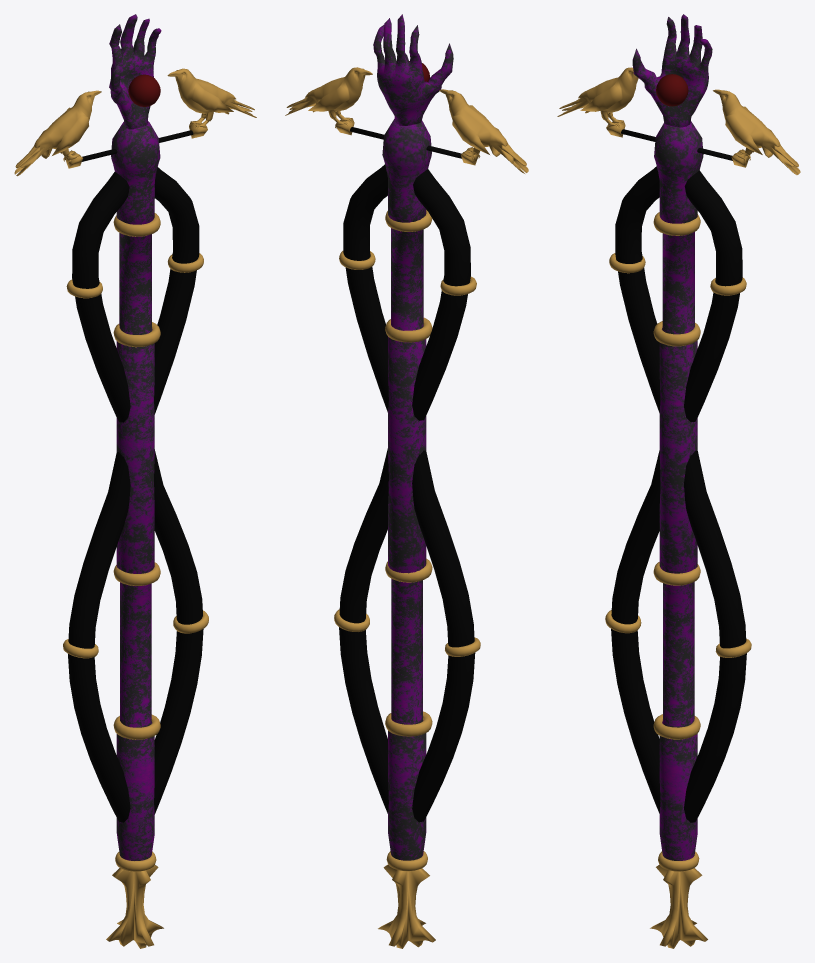
The model's file is DarkStaffUpgraded.fbx.
The picture shows the model from 3 angles, left to right: view 1: azimuth 30°, elevation 25°; view 2: azimuth 150°, elevation 25°; view 3: azimuth 330°, elevation 25°; orthographic projection.
Visible parts, largest first — view 1: DarkStaffUpgrade.001; view 2: DarkStaffUpgrade.001; view 3: DarkStaffUpgrade.001.
Boxes of the visible parts, bbox=[...] form: DarkStaffUpgrade.001: bbox=[14, 14, 256, 948]; DarkStaffUpgrade.001: bbox=[285, 14, 528, 948]; DarkStaffUpgrade.001: bbox=[557, 14, 800, 948].
Size of the model in its own units: 43.16 by 160 by 9.96.
1 material, 1 textured.
